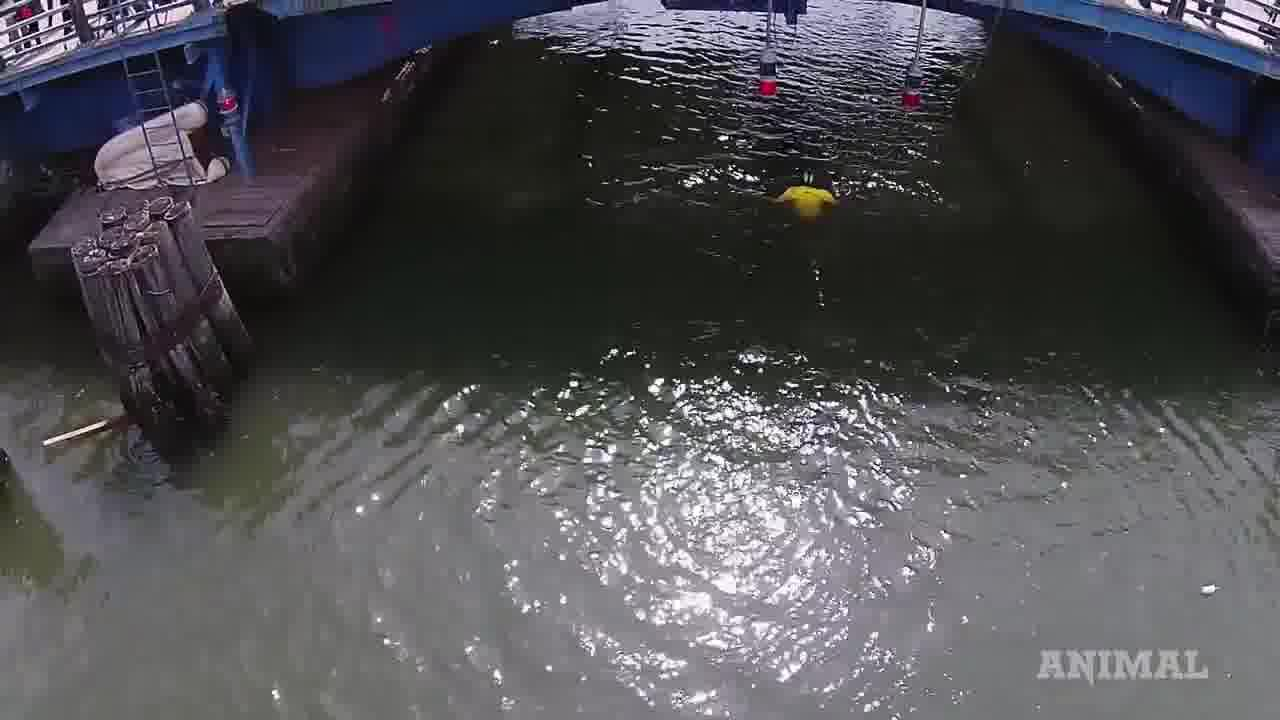human: (749, 152, 863, 229)
